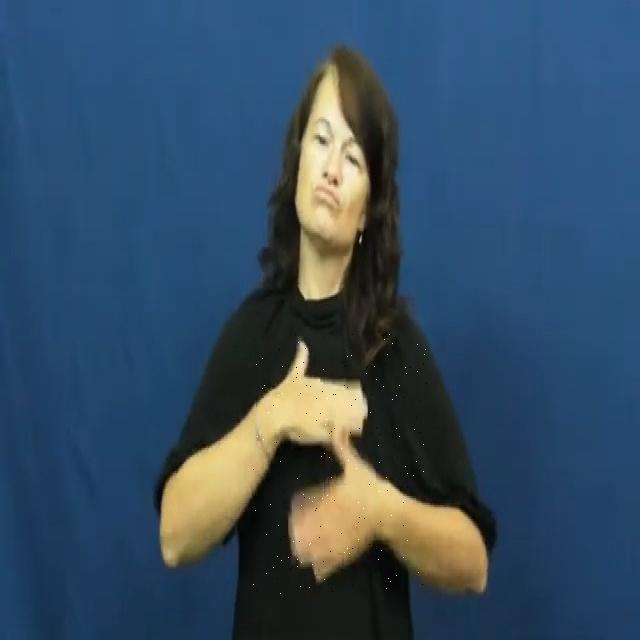enjoy: (253, 330, 427, 594)
